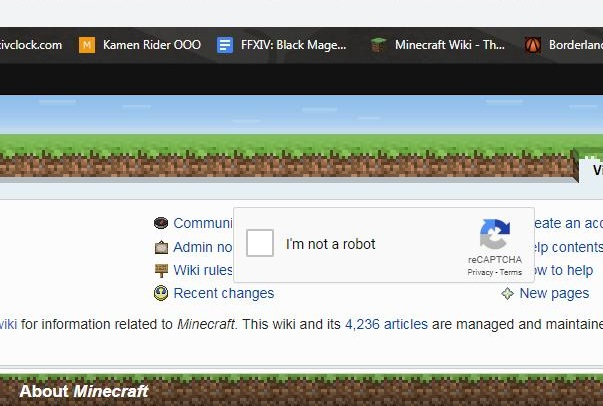captcha: (246, 229, 377, 257)
